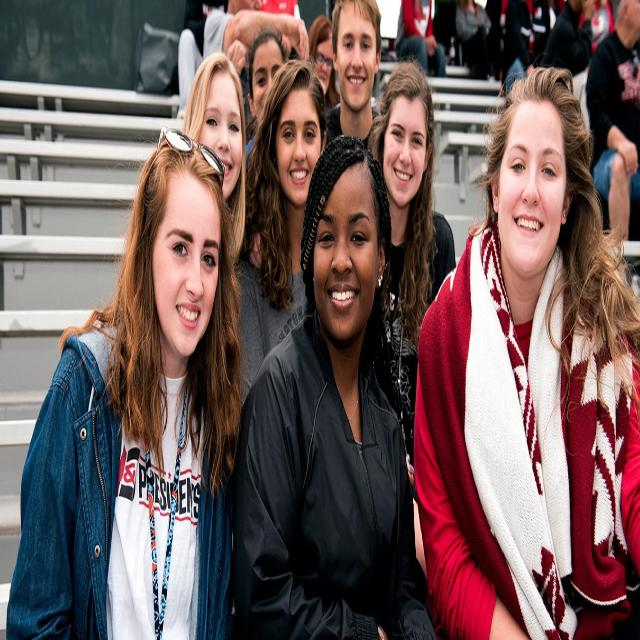body: (410, 61, 640, 639), (0, 119, 233, 639), (227, 133, 448, 639), (179, 0, 612, 145), (366, 63, 458, 590), (231, 60, 331, 412), (181, 52, 249, 270), (585, 0, 640, 241), (324, 1, 382, 153)
